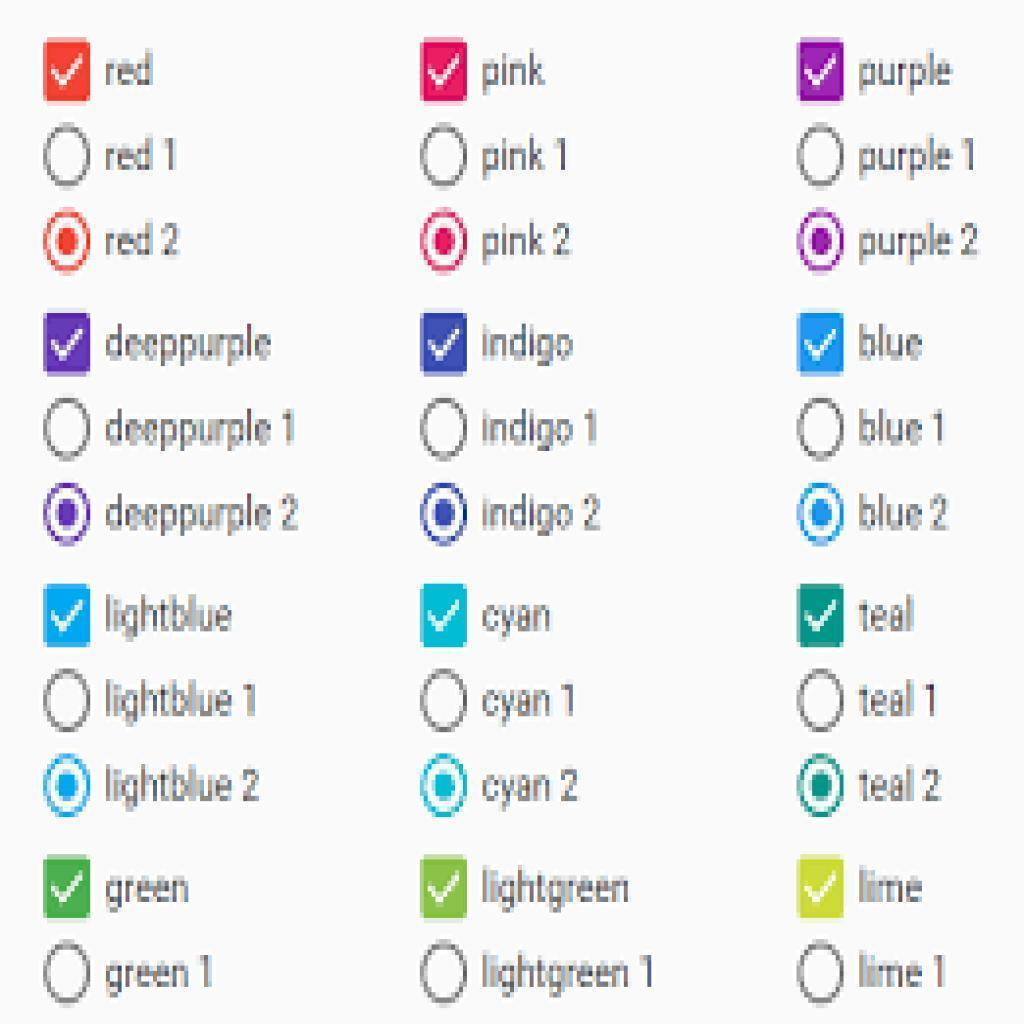checkbox: (418, 311, 469, 378), (419, 584, 469, 648), (42, 854, 92, 918), (419, 39, 468, 104), (421, 854, 469, 920), (42, 39, 92, 102), (796, 854, 845, 918), (798, 38, 846, 102), (45, 582, 92, 647), (797, 311, 845, 374), (798, 583, 845, 647), (44, 315, 91, 374)
radio: (416, 206, 473, 278), (40, 205, 96, 278), (40, 748, 95, 820), (418, 119, 471, 191), (796, 203, 847, 277), (38, 665, 94, 732), (41, 478, 93, 550), (417, 666, 472, 734), (417, 938, 471, 1007), (795, 476, 845, 548), (41, 938, 94, 1005), (796, 124, 848, 192), (795, 939, 847, 1007), (417, 750, 468, 819), (795, 667, 846, 736), (794, 394, 844, 463), (418, 481, 471, 546), (794, 752, 845, 818), (419, 396, 469, 463), (41, 394, 90, 462), (43, 124, 93, 188)
